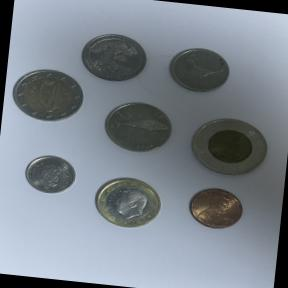coin: (181, 109, 279, 190), (86, 168, 172, 236), (97, 93, 180, 162), (7, 64, 88, 129), (78, 29, 153, 88), (181, 182, 252, 238), (20, 148, 84, 200)
